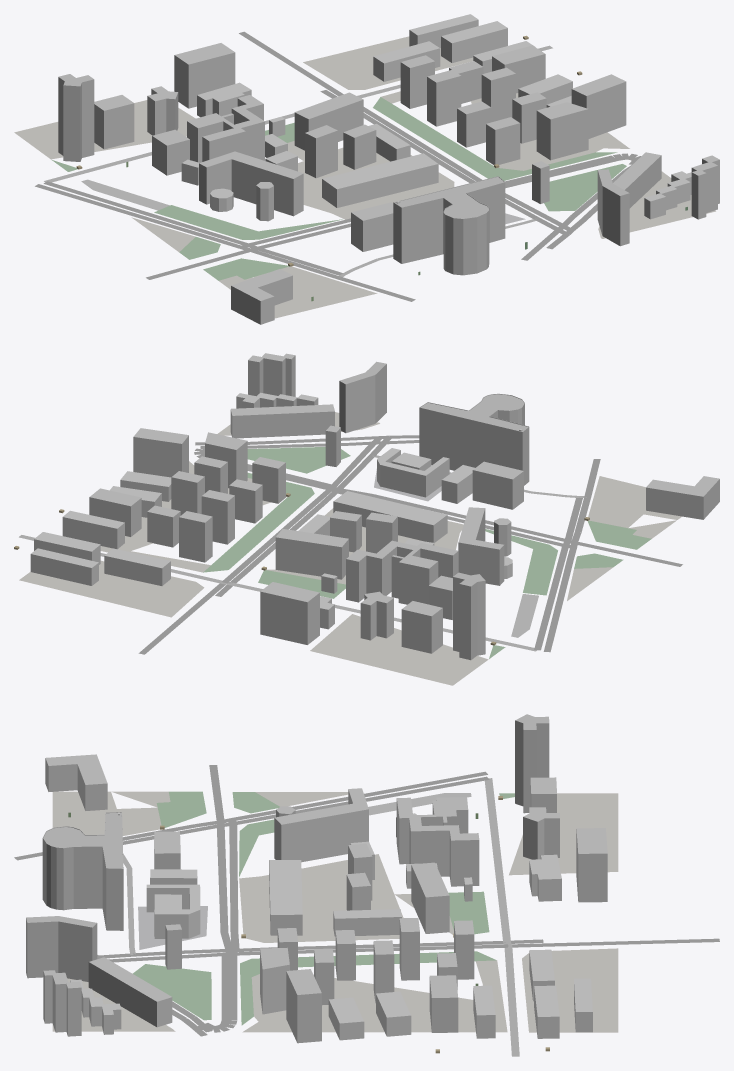
3 views of the same model, one above another, from view 1: azimuth 30°, elevation 25°; view 2: azimuth 150°, elevation 25°; view 3: azimuth 270°, elevation 25° (orthographic). The views are drawn at different scales.
Size of the model in its own units: 608 by 81.59 by 624.
